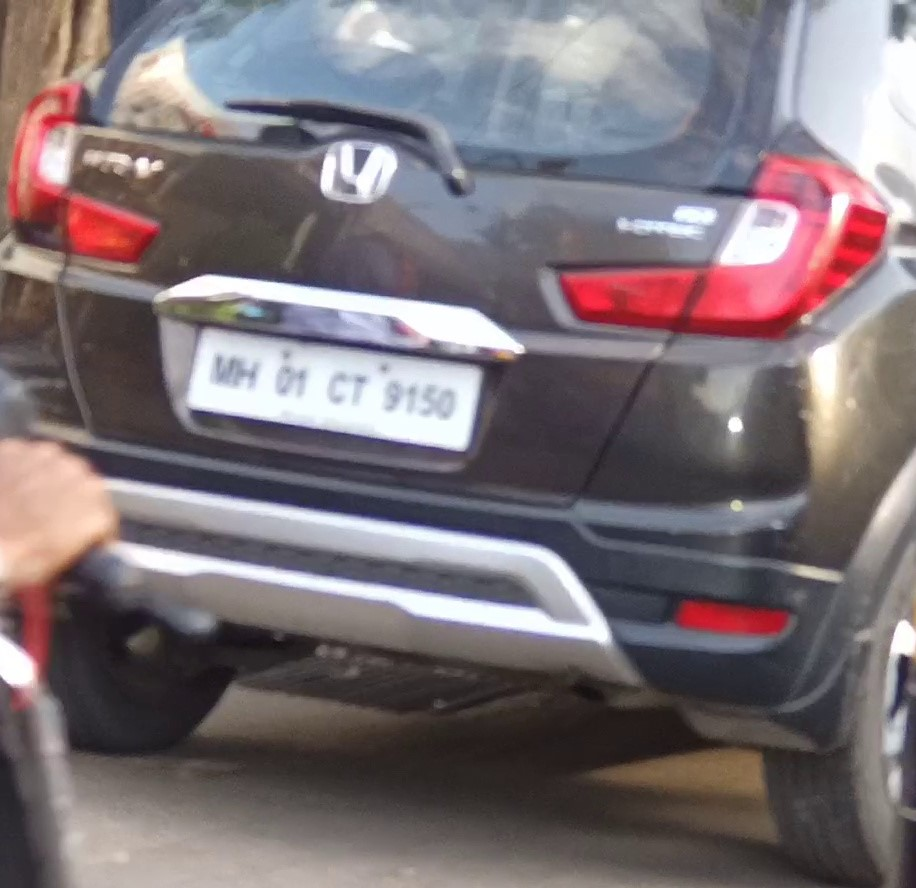MH01CT9150: (188, 322, 482, 454)
